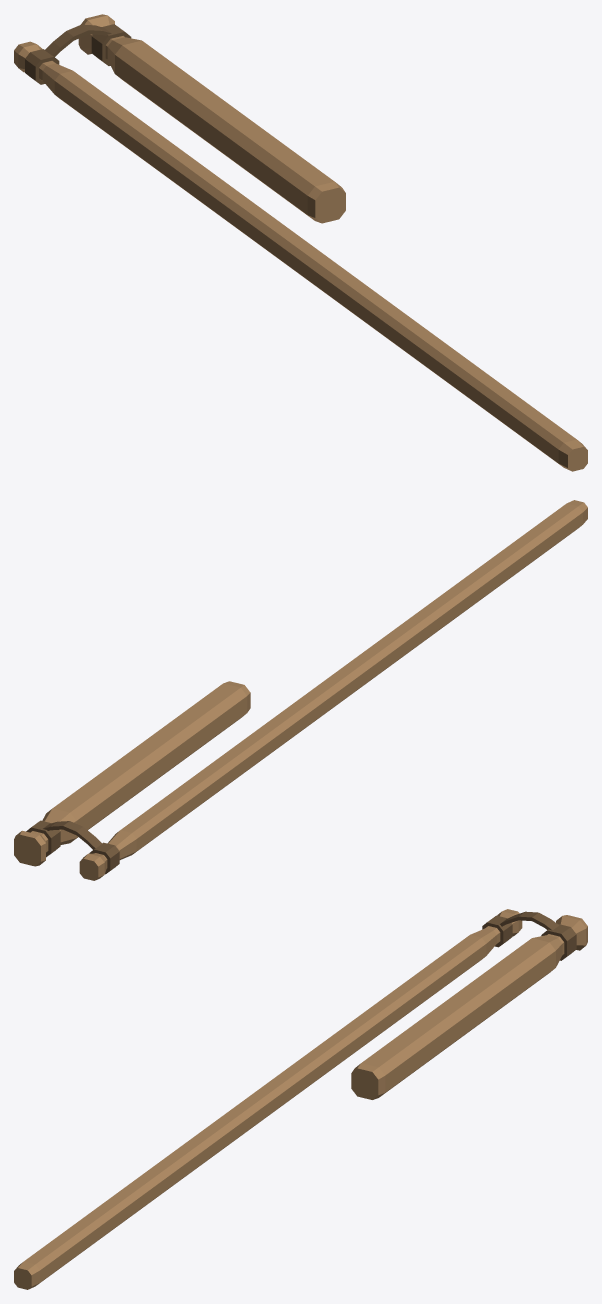
3 renders of one model, top to bottom at view 1: azimuth 30°, elevation 25°; view 2: azimuth 150°, elevation 25°; view 3: azimuth 330°, elevation 25°, orthographic. The views are drawn at different scales.
Parts seen in each view (by area): view 1: Long wooden handle, Short thick wooden beater, Short folded leather connector, Leather beater collar, Leather handle collar; view 2: Long wooden handle, Short thick wooden beater, Short folded leather connector; view 3: Long wooden handle, Short thick wooden beater, Leather beater collar, Short folded leather connector.
Boxes of the visible parts, x1=… form: Long wooden handle: x1=14, y1=41, x2=587, y2=471; Short thick wooden beater: x1=78, y1=14, x2=345, y2=223; Short folded leather connector: x1=45, y1=24, x2=111, y2=56; Leather beater collar: x1=91, y1=24, x2=131, y2=65; Leather handle collar: x1=25, y1=49, x2=59, y2=84; Long wooden handle: x1=79, y1=500, x2=587, y2=880; Short thick wooden beater: x1=14, y1=681, x2=250, y2=866; Short folded leather connector: x1=43, y1=821, x2=101, y2=849; Long wooden handle: x1=14, y1=909, x2=522, y2=1289; Short thick wooden beater: x1=351, y1=915, x2=587, y2=1099; Leather beater collar: x1=541, y1=923, x2=576, y2=960; Short folded leather connector: x1=500, y1=911, x2=558, y2=930.
Size of the model in its own units: 0.149 by 0.06 by 1.45.
